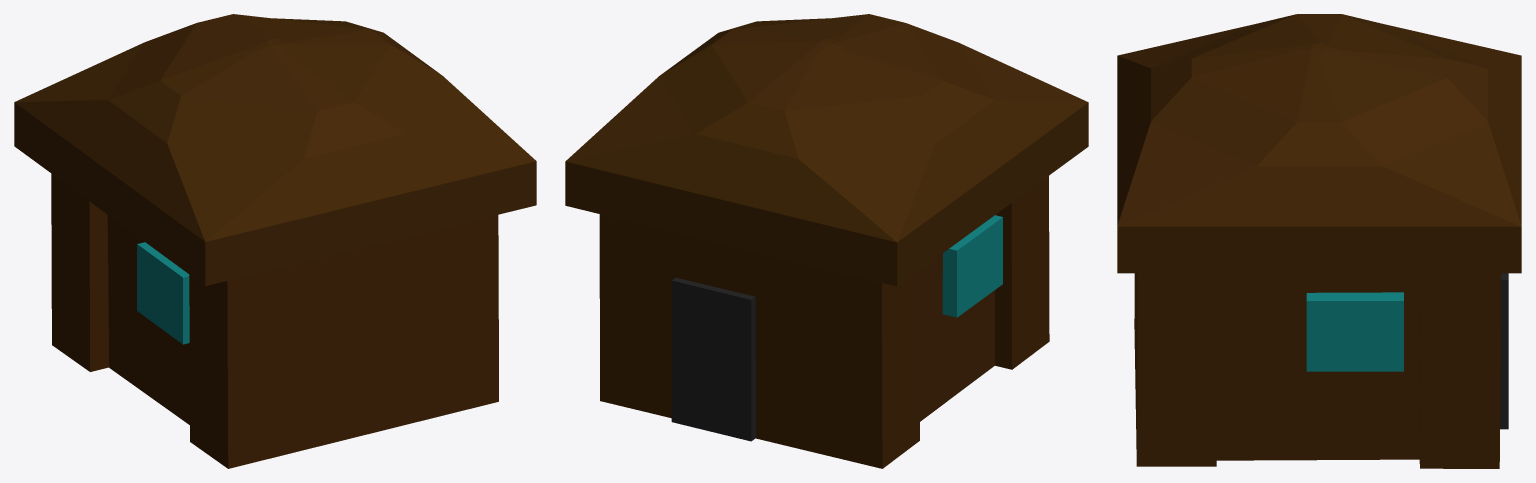
Rendered from build.fbx.
3 renders of one model, left to right at view 1: azimuth 30°, elevation 25°; view 2: azimuth 150°, elevation 25°; view 3: azimuth 270°, elevation 25°, orthographic. The views are drawn at different scales.
Parts seen in each view (by area): view 1: Cube.009, Cube.004, Cube.005, Cube.002, Cube.006; view 2: Cube.009, Cube.005, Cube.008, Cube.004, Cube.002, Cube.006; view 3: Cube.009, Cube.001, Cube.004, Cube.005, Cube.007, Cube.008.
Boxes of the visible parts, left/top/right/bottom form: Cube.009: left=14, top=14, right=536, bottom=285; Cube.004: left=189, top=215, right=498, bottom=468; Cube.005: left=51, top=173, right=109, bottom=371; Cube.002: left=107, top=215, right=189, bottom=424; Cube.006: left=137, top=242, right=189, bottom=344; Cube.009: left=565, top=14, right=1088, bottom=286; Cube.005: left=599, top=214, right=919, bottom=468; Cube.008: left=671, top=277, right=755, bottom=441; Cube.004: left=995, top=176, right=1049, bottom=369; Cube.002: left=919, top=253, right=994, bottom=421; Cube.006: left=942, top=215, right=1002, bottom=317; Cube.009: left=1117, top=14, right=1521, bottom=273; Cube.001: left=1216, top=273, right=1420, bottom=460; Cube.004: left=1134, top=273, right=1217, bottom=466; Cube.005: left=1419, top=273, right=1501, bottom=468; Cube.007: left=1306, top=292, right=1403, bottom=371; Cube.008: left=1500, top=273, right=1508, bottom=429.
Size of the model in its own units: 833 by 795 by 832.
